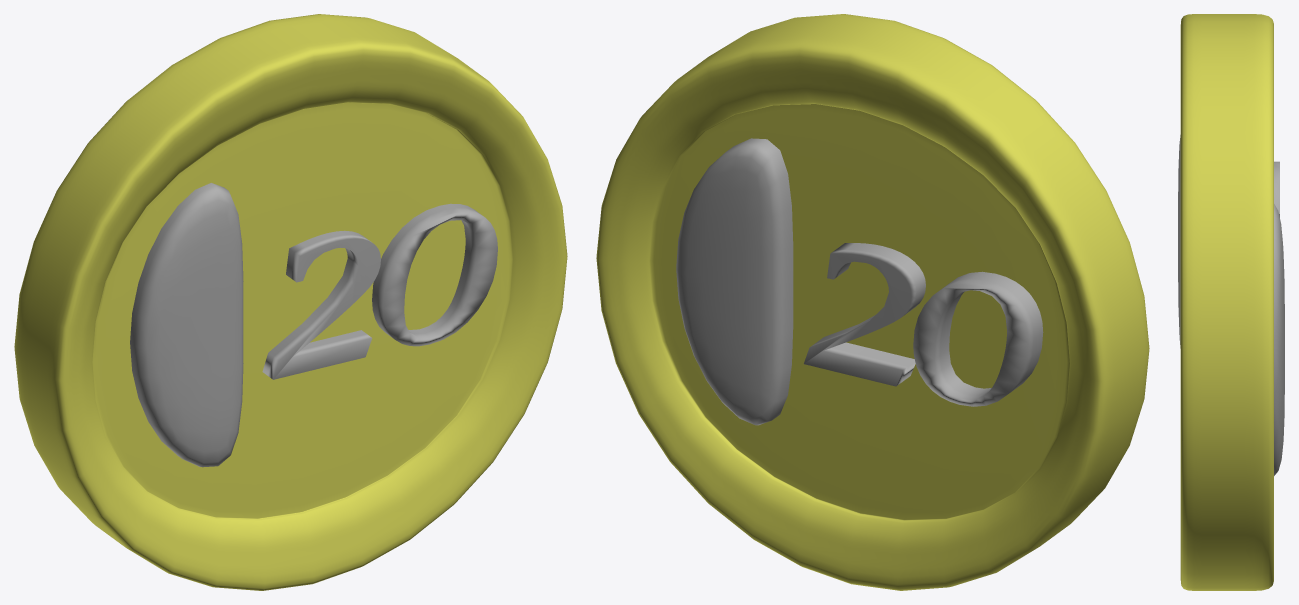
File: 20cent.fbx
3 views of the same model, side by side, from view 1: azimuth 30°, elevation 25°; view 2: azimuth 150°, elevation 25°; view 3: azimuth 270°, elevation 25° (orthographic). The views are drawn at different scales.
Visible parts, largest first — view 1: pCylinder8, typeMesh5; view 2: pCylinder8, polySurface7; view 3: pCylinder8, polySurface7, typeMesh5.
Boxes of the visible parts, <box> form: pCylinder8: <box>14,14,567,590</box>; typeMesh5: <box>130,183,497,467</box>; pCylinder8: <box>596,14,1149,590</box>; polySurface7: <box>676,138,1043,425</box>; pCylinder8: <box>1180,14,1273,590</box>; polySurface7: <box>1274,161,1284,475</box>; typeMesh5: <box>1178,135,1180,348</box>.
Bounding box in the file's own units: 3.63 × 3.63 × 0.6714.
